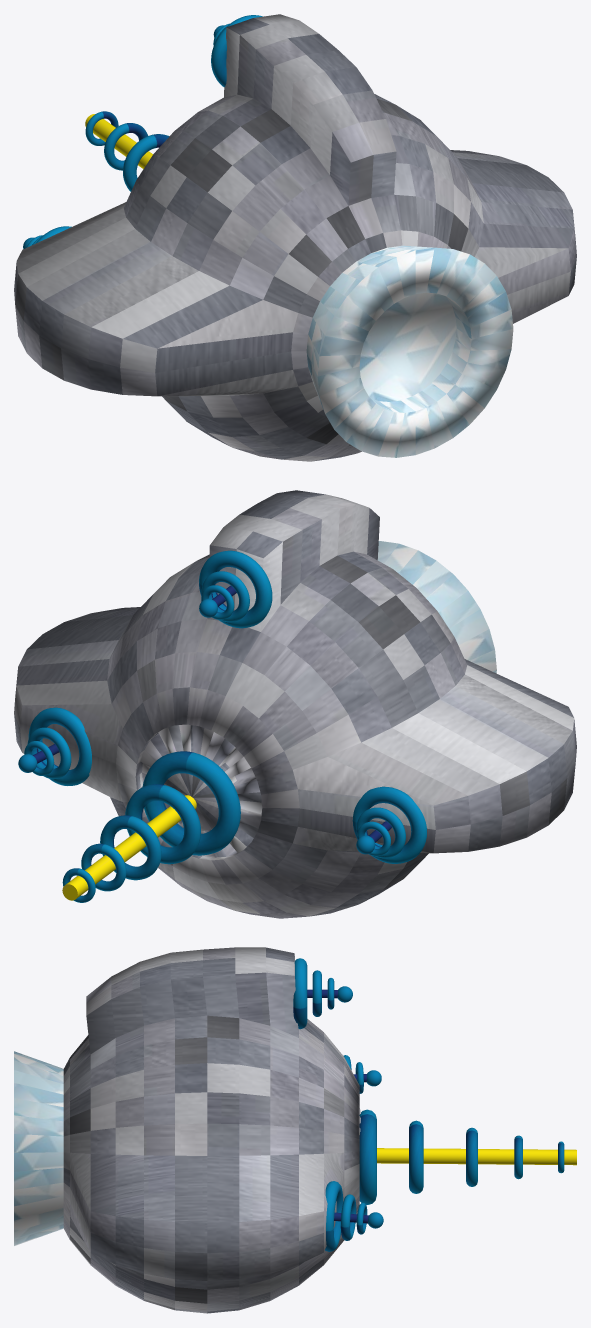
Rendered from balanced_spacebot.gltf.
The picture shows the model from 3 angles, top to bottom: view 1: azimuth 30°, elevation 25°; view 2: azimuth 150°, elevation 25°; view 3: azimuth 270°, elevation 25°; orthographic projection. The views are drawn at different scales.
Parts seen in each view (by area): view 1: Sphere, Cone, Torus.009, Torus.002, Torus.010, Cylinder.002; view 2: Sphere, Cone, Torus.012, Torus.011, Torus.002, Torus.008, Cylinder.002, Torus.005, Torus.009, Torus.010, Torus.007, Torus.001 (+1 smaller); view 3: Sphere, Cone, Cylinder.002, Torus.012, Torus.011, Torus.005, Torus.002, Torus.009, Torus.004.
Boxes of the visible parts, <box> form: Sphere: <box>14,14,576,461</box>; Cone: <box>306,245,513,457</box>; Torus.009: <box>123,134,169,191</box>; Torus.002: <box>211,15,262,86</box>; Torus.010: <box>104,123,147,170</box>; Cylinder.002: <box>85,114,152,168</box>; Sphere: <box>14,490,576,918</box>; Cone: <box>377,541,496,673</box>; Torus.012: <box>142,751,240,855</box>; Torus.011: <box>125,784,200,864</box>; Torus.002: <box>199,550,272,628</box>; Torus.008: <box>352,786,426,863</box>; Cylinder.002: <box>62,795,196,900</box>; Torus.005: <box>28,707,91,785</box>; Torus.009: <box>100,815,161,880</box>; Torus.010: <box>81,843,126,891</box>; Torus.007: <box>356,807,405,858</box>; Torus.001: <box>201,571,249,622</box>; Sphere: <box>63,947,360,1313</box>; Cone: <box>14,1051,63,1245</box>; Cylinder.002: <box>377,1148,576,1165</box>; Torus.012: <box>359,1109,376,1204</box>; Torus.011: <box>409,1120,423,1193</box>; Torus.005: <box>325,1181,343,1251</box>; Torus.002: <box>293,958,307,1029</box>; Torus.009: <box>466,1127,477,1186</box>; Torus.004: <box>340,1194,356,1240</box>.
Bounding box in the file's own units: 8.46 × 6.22 × 9.31.
Materials: 13 (13 with a texture image).
